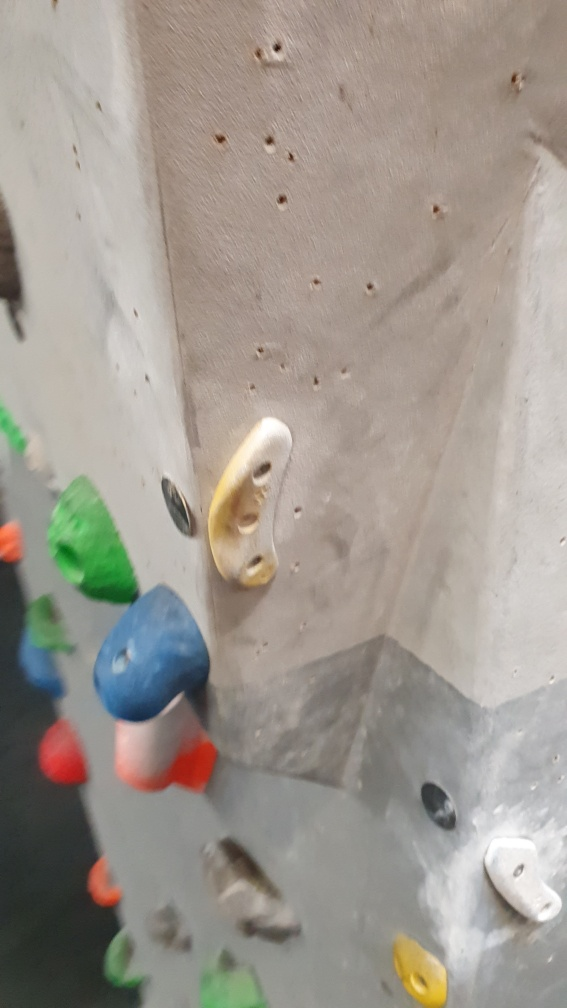Hand Start: (414, 773, 461, 832), (160, 475, 201, 537)
Jug: (197, 829, 303, 944)
Pinch: (117, 702, 224, 800)
